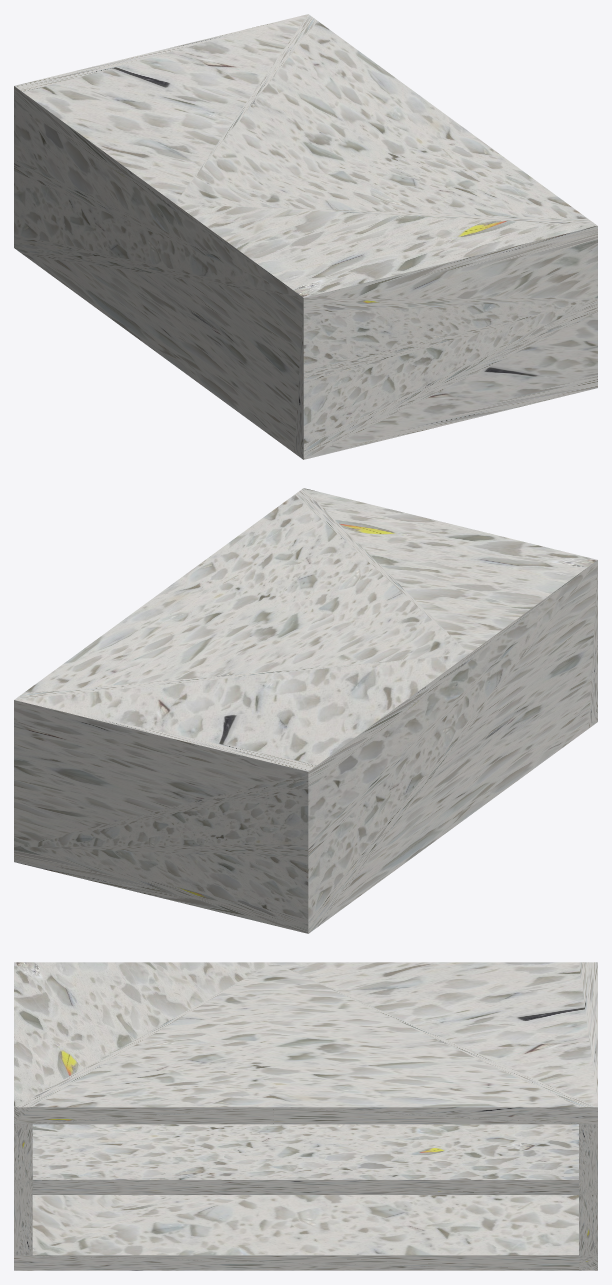
The model's file is estante.obj.
3 views of the same model, one above another, from view 1: azimuth 30°, elevation 25°; view 2: azimuth 150°, elevation 25°; view 3: azimuth 270°, elevation 25° (orthographic).
Parts seen in each view (by area): view 1: Cube; view 2: Cube; view 3: Cube.
Part boxes in pixels (x1,y1,x2,y2): Cube: (14,14,597,459); Cube: (14,488,597,933); Cube: (14,962,597,1270).
Bounding box in the file's own units: 2 × 1.05 × 3.41.
Materials: 1 (1 with a texture image).
